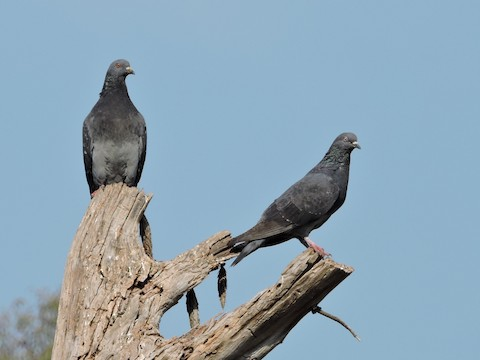pigeon: (225, 123, 365, 282), (77, 55, 158, 235)
